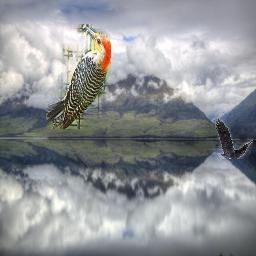Crow: (215, 119, 253, 159)
Woodpecker: (47, 25, 112, 130)
